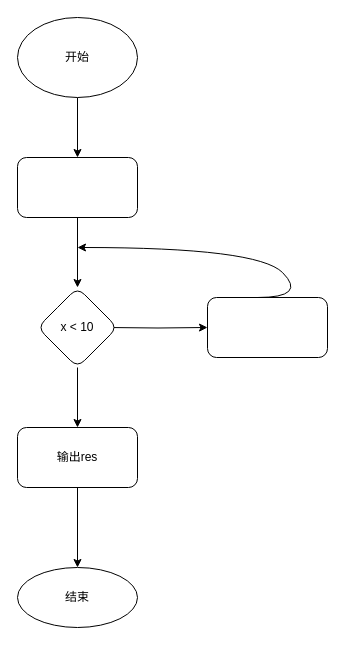
This 345x645 diagram has some shape labels left out. The box of each missing label's shape, as (x1, y1, x2, y2) in pixels:
res += i: (206, 296, 328, 358)
x = 0 res = 0: (16, 156, 138, 218)
